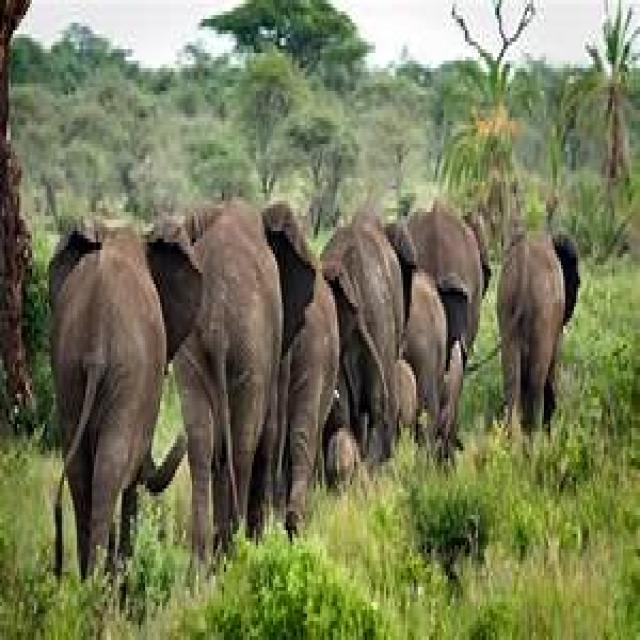elephant: (47, 227, 205, 579), (171, 204, 286, 560), (497, 235, 580, 439)
